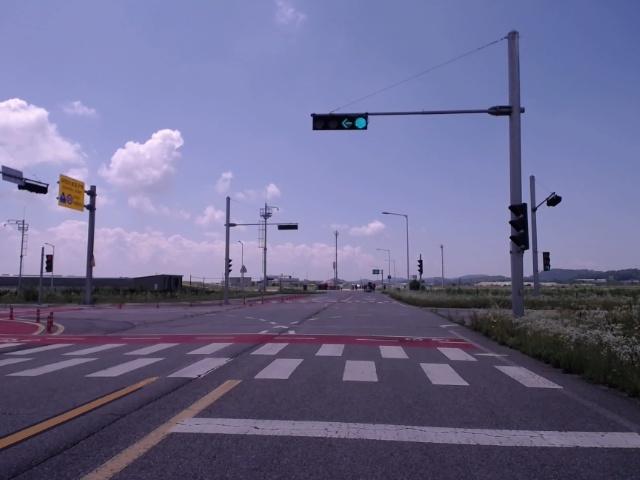all_green_4: (312, 113, 371, 129)
